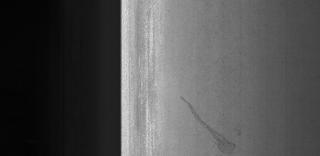silk spot: (194, 11, 252, 100)
water spot: (176, 92, 248, 156)
